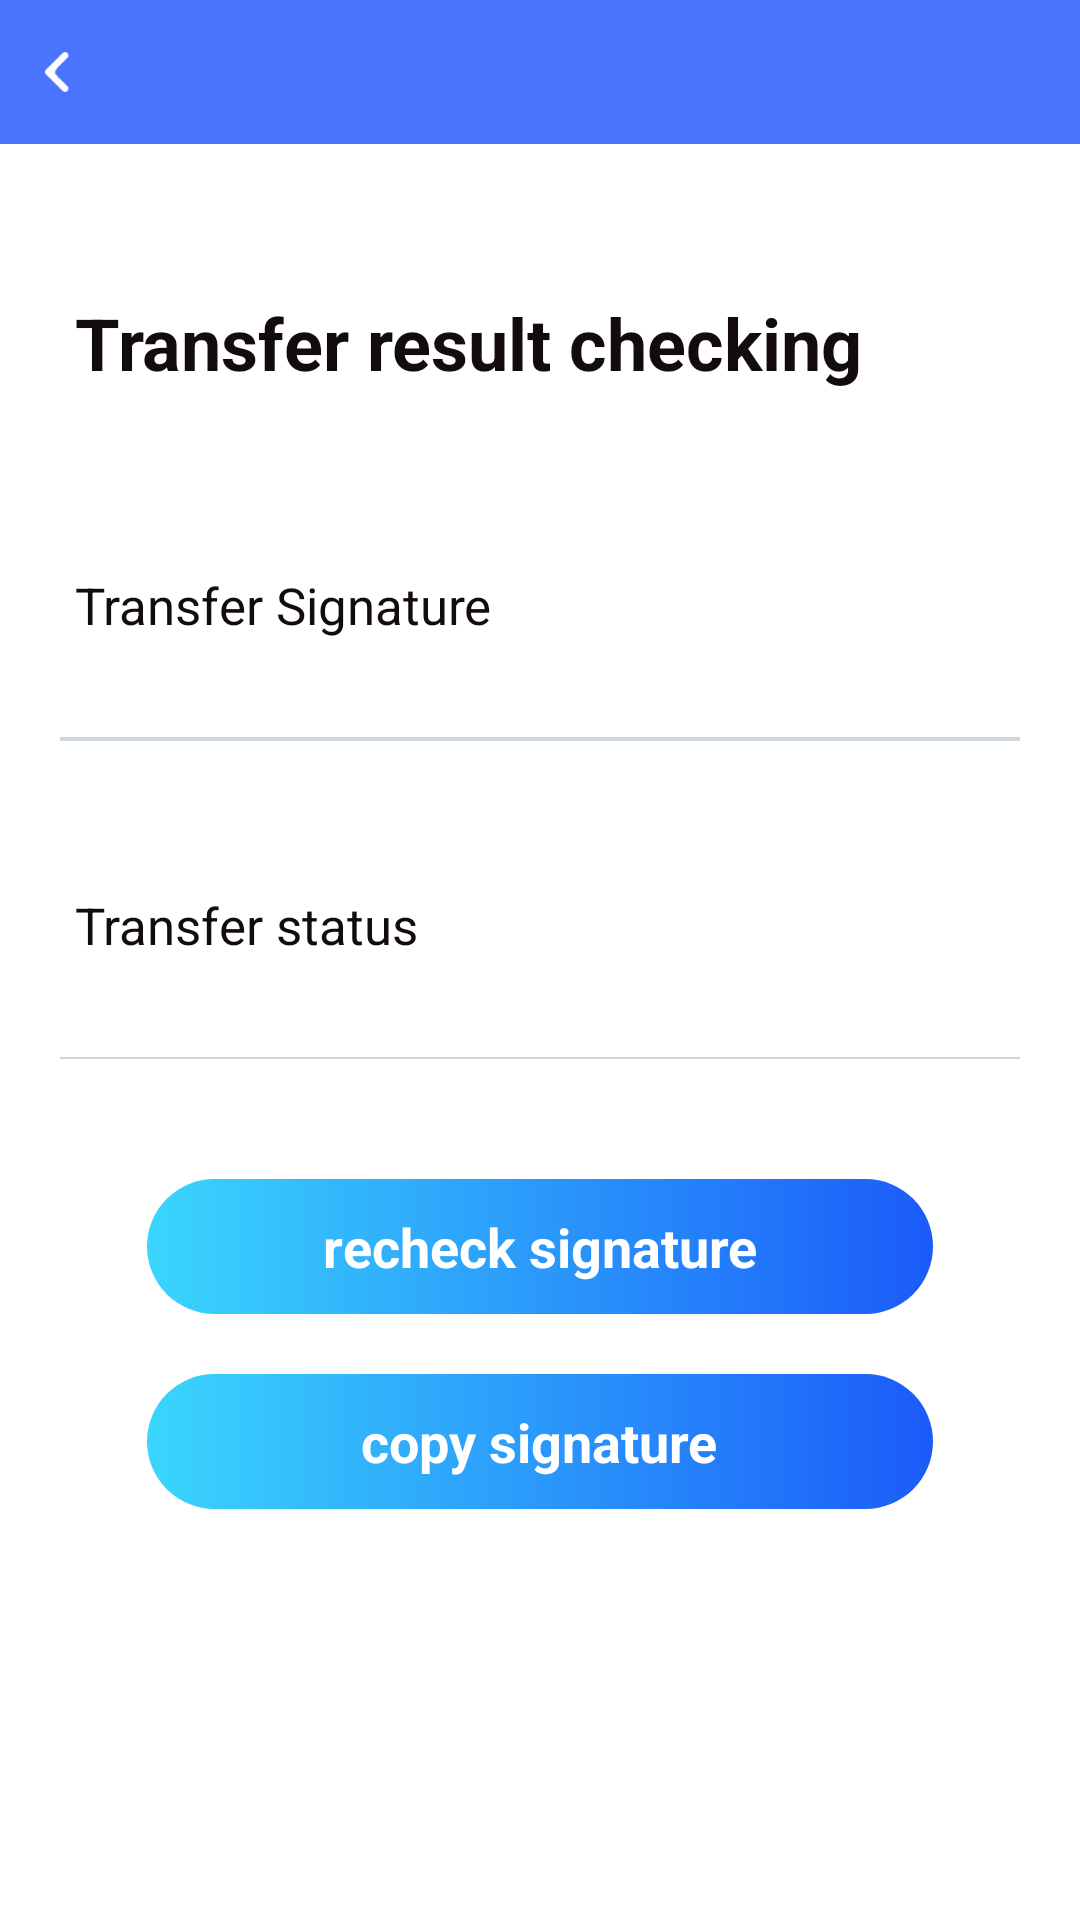

Point at icon controls on the screen. Image size 1080 x 1920, points as point (x, y).
back: point (57, 72)
